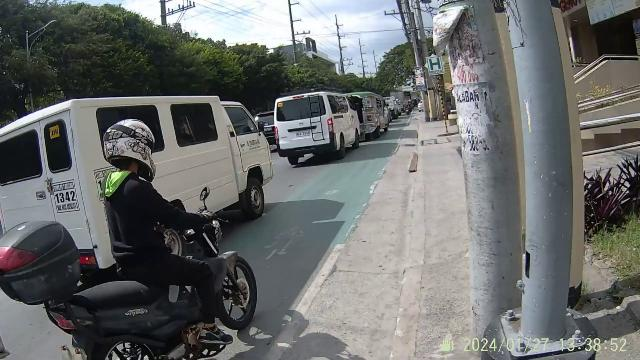utility_post: (432, 1, 582, 338), (156, 0, 198, 32), (331, 13, 349, 75)
